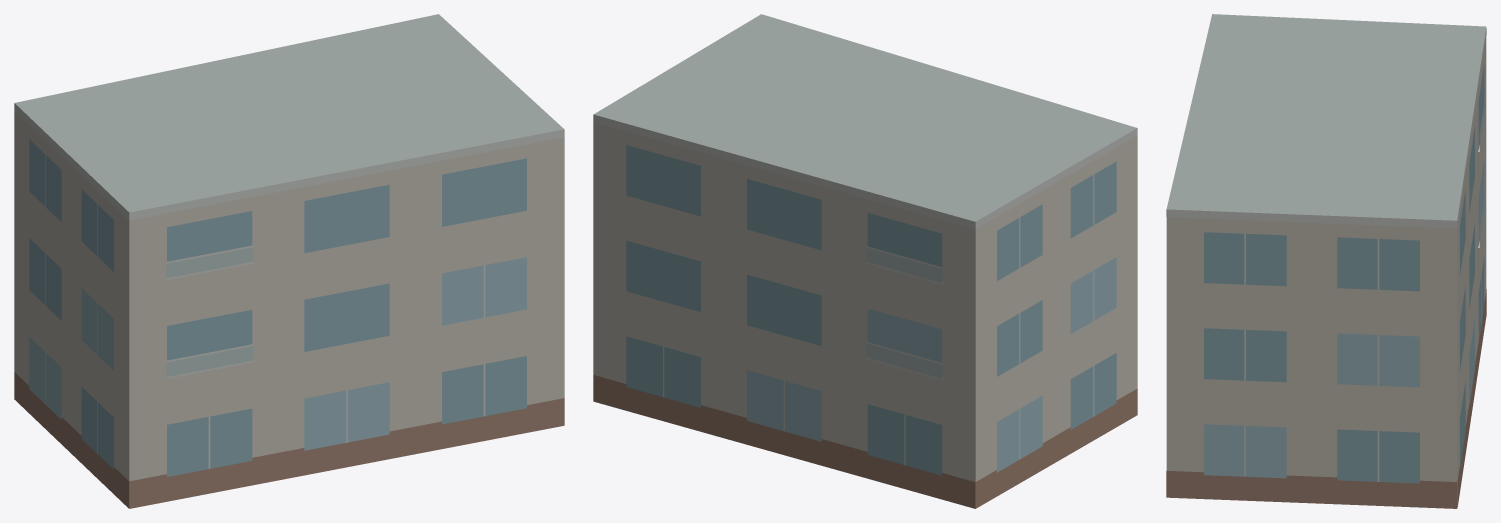
Rendered from survey-upis-32639632.glb.
3 views of the same model, side by side, from view 1: azimuth 30°, elevation 25°; view 2: azimuth 150°, elevation 25°; view 3: azimuth 270°, elevation 25° (orthographic). The views are drawn at different scales.
Parts seen in each view (by area): view 1: survey-upis-32639632.tmp; view 2: survey-upis-32639632.tmp; view 3: survey-upis-32639632.tmp.
Boxes of the visible parts, x1,y1,x2,y2 form: survey-upis-32639632.tmp: [14, 14, 564, 508]; survey-upis-32639632.tmp: [593, 14, 1137, 508]; survey-upis-32639632.tmp: [1166, 14, 1486, 508].
Size of the model in its own units: 14.09 by 9.15 by 9.22.
